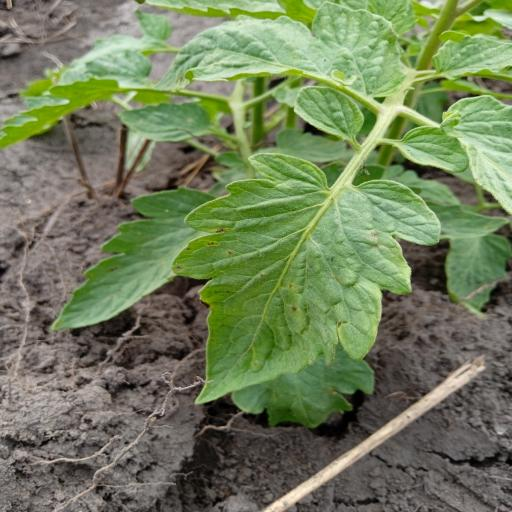Tomato_Mildiou: (178, 153, 442, 415)
